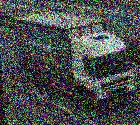truck: (14, 5, 137, 116)
